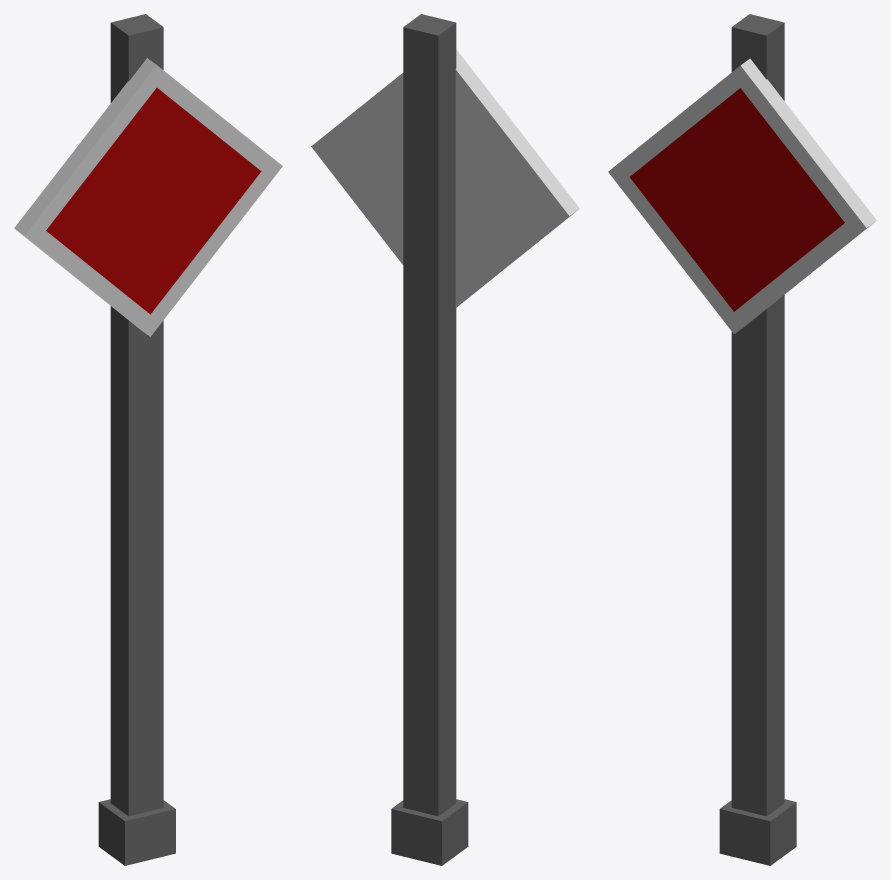
Rendered from stop sign.fbx.
The picture shows the model from 3 angles, left to right: view 1: azimuth 30°, elevation 25°; view 2: azimuth 150°, elevation 25°; view 3: azimuth 330°, elevation 25°; orthographic projection.
Parts seen in each view (by area): view 1: pCube2, pCube1; view 2: pCube1, pCube2; view 3: pCube2, pCube1.
Part boxes in pixels (bbox=[...]): pCube2: bbox=[14, 58, 282, 336]; pCube1: bbox=[98, 14, 175, 865]; pCube1: bbox=[391, 14, 468, 865]; pCube2: bbox=[311, 49, 579, 307]; pCube2: bbox=[608, 58, 876, 333]; pCube1: bbox=[719, 14, 796, 865].
Bounding box in the file's own units: 3.41 × 10.4 × 0.7273.
